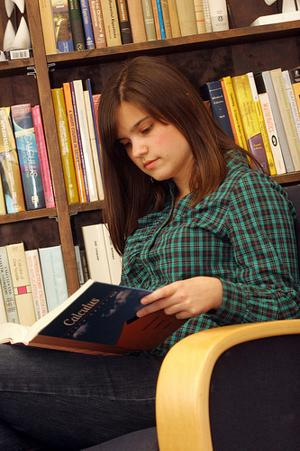person: (2, 55, 300, 450)
